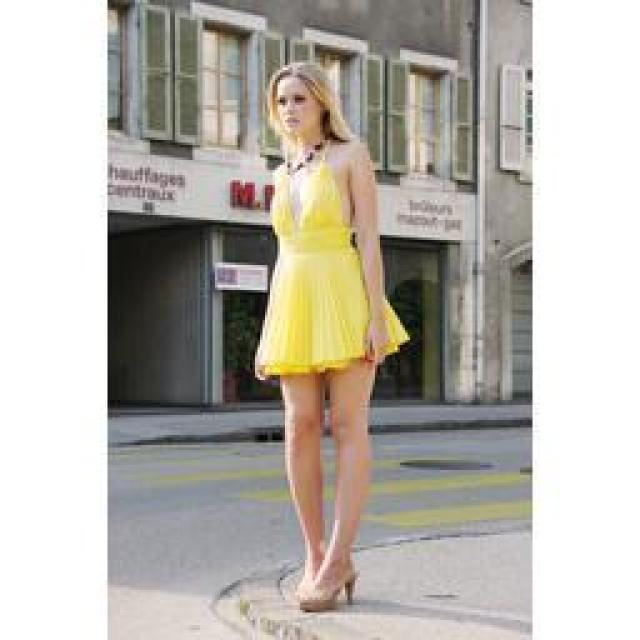dress: (254, 142, 408, 376)
